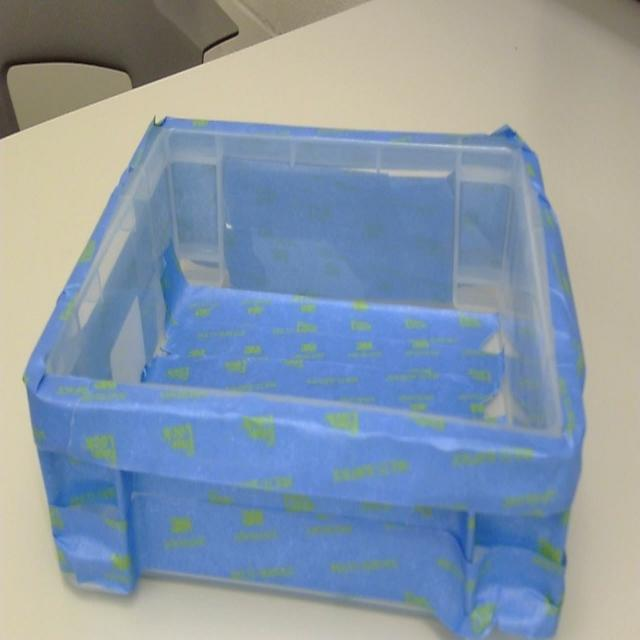bucket: (22, 117, 588, 640)
